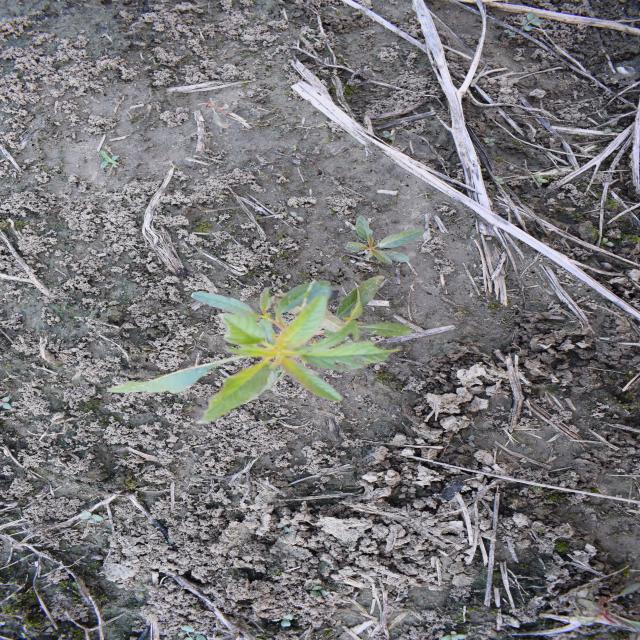Waterhemp: (104, 275, 417, 425), (340, 214, 427, 270)
